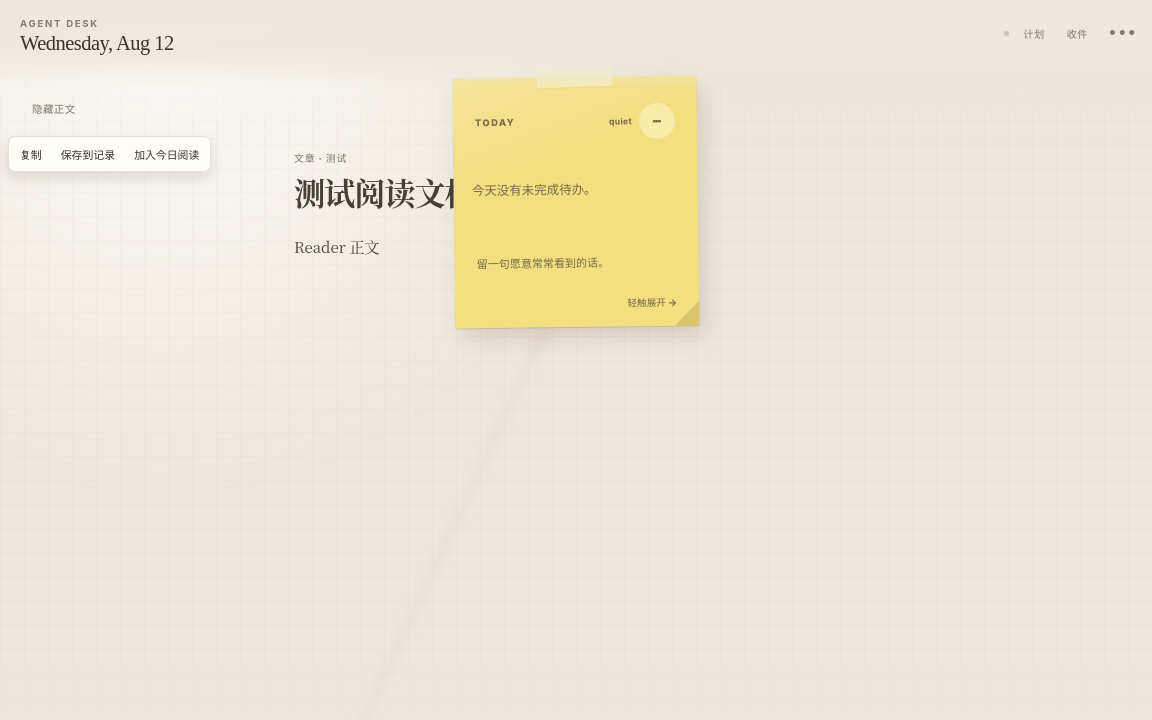
Test: StickyHome M1-B4 › adds a Reader selection capture to the existing 记录 list without opening Sticky
Click the button "保存到记录" at x=88, y=154, box left=53, top=140, right=123, bottom=168
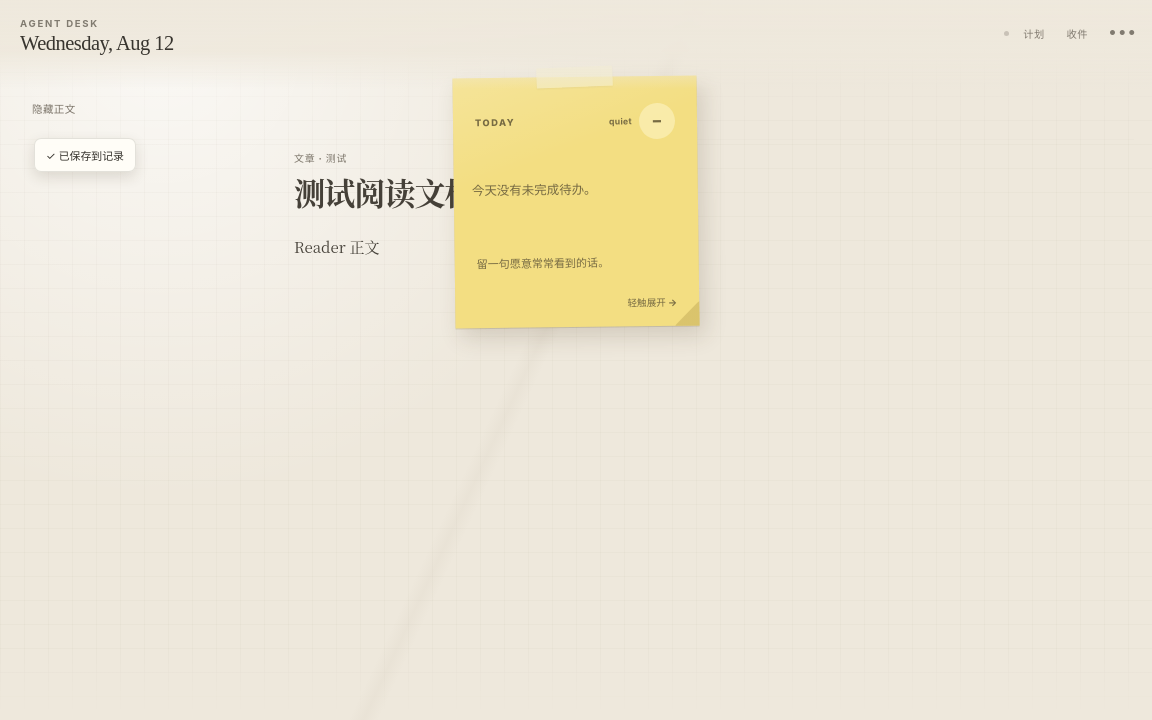
Click the button with aria-label "展开或拖动便利贴" at x=576, y=202, box left=454, top=77, right=698, bottom=327
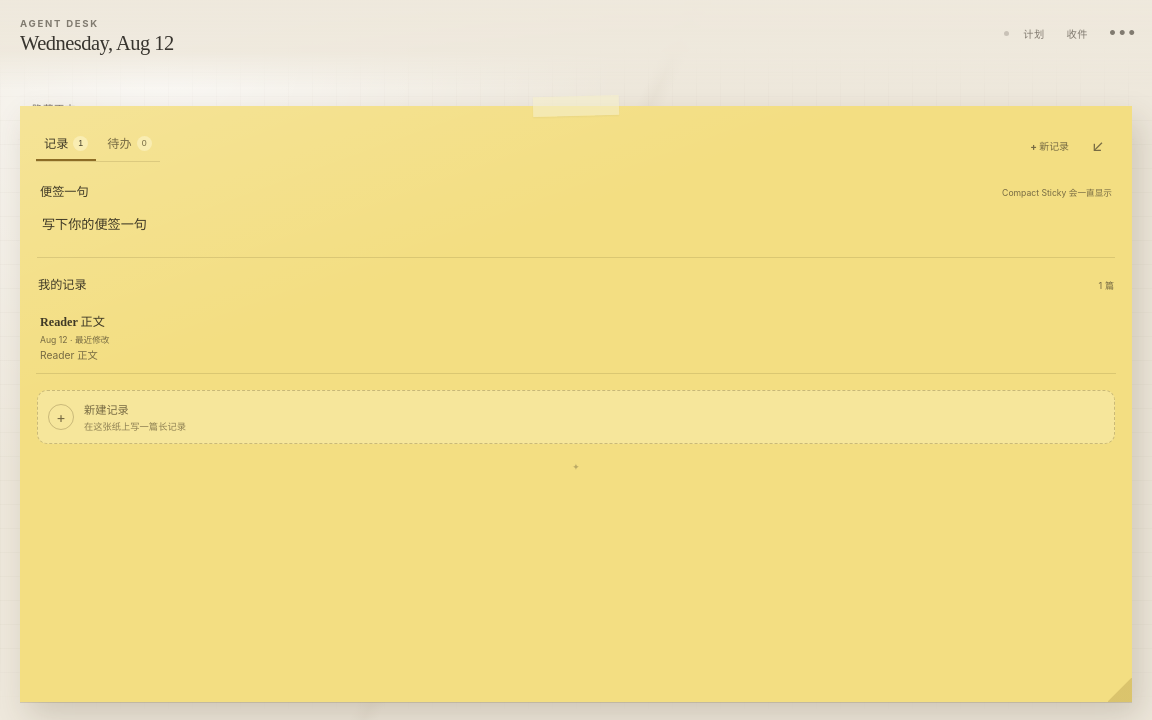
Check: the button "Reader 正文 Aug 12 · 最近修改 Reader 正文" is shown, box left=36, top=301, right=1116, bottom=374
